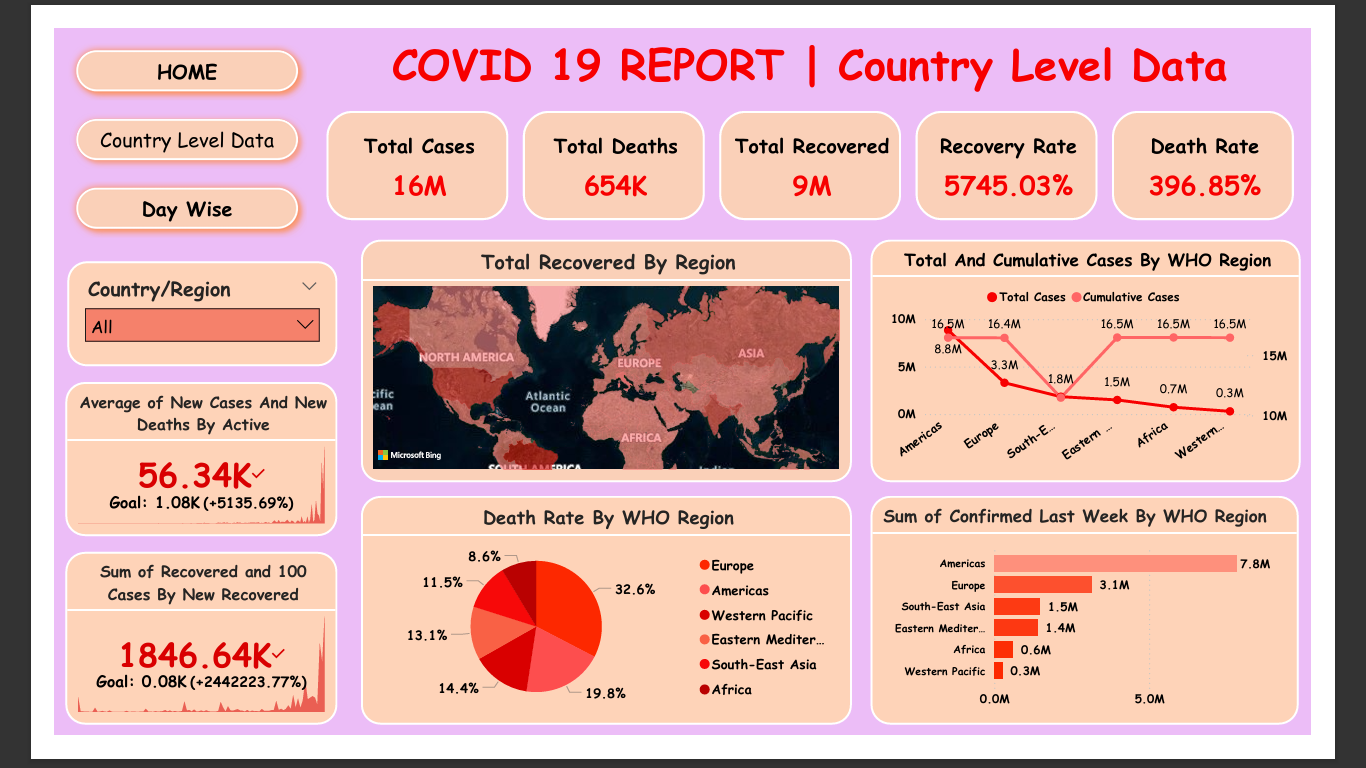

Layout of this report page (visuals, bound fields, positions):
{"tool":"powerbi","page":{"name":"Country Level Data","canvas":[1280,720],"ordinal":1},"visuals":[{"type":"textbox","box":[271.4,0,995.7,70],"z":0},{"type":"pageNavigator","box":[12.8,12.8,243.8,202.7],"z":1000},{"type":"filledMap","title":"Total Recovered By Region","fields":{"Category":["country_wise_latest.Country/Region"]},"box":[311.8,215.4,500.3,246.6],"z":2000},{"type":"cardVisual","fields":{"Data":["country_wise_latest.Total Cases","country_wise_latest.Total Deaths","country_wise_latest.Total Recovered","country_wise_latest.Recovery Rate","country_wise_latest.Death Rate"]},"box":[272.1,79.4,996.4,120.5],"z":3000},{"type":"areaChart","title":"Total And Cumulative Cases By WHO Region","fields":{"Category":["country_wise_latest.WHO Region"],"Y":["country_wise_latest.Total Cases"],"Y2":["country_wise_latest.Cumulative Cases"]},"box":[830.6,215.4,438,246.6],"z":4000},{"type":"slicer","fields":{"Values":["country_wise_latest.Country/Region"]},"box":[12.8,236.7,275,107.7],"z":5000},{"type":"pieChart","title":"Death Rate By WHO Region","fields":{"Category":["country_wise_latest.WHO Region"],"Y":["country_wise_latest.Death Rate"]},"box":[311.8,476.2,500.3,232.4],"z":6000},{"type":"barChart","title":"Sum of Confirmed Last Week By WHO Region","fields":{"Y":["Sum(country_wise_latest.Confirmed last week)"],"Category":["country_wise_latest.WHO Region"]},"box":[830.6,476.2,436.5,232.4],"z":7000},{"type":"kpi","title":"Average of New Cases And New Deaths By Active","fields":{"Indicator":["Avg(country_wise_latest.New cases)"],"TrendLine":["country_wise_latest.Active"],"Goal":["Avg(country_wise_latest.New deaths)"]},"box":[11.3,360,276.4,157.3],"z":8000},{"type":"kpi","title":"Sum of Recovered and 100 Cases By New Recovered","fields":{"Goal":["Sum(country_wise_latest.Recovered / 100 Cases)"],"TrendLine":["country_wise_latest.New recovered"],"Indicator":["Sum(country_wise_latest.Recovered)"]},"box":[11.3,532.9,276.4,175.7],"z":9000}]}

Visuals, with their boxes in screenshot pixels (x1, y1, x2, y2), scaled from the page's 1280x720 canvas onto the 1366x768 screenshot:
textbox: box=[290, 0, 1352, 75]
pageNavigator: box=[14, 14, 274, 230]
"Total Recovered By Region" filledMap: box=[333, 230, 867, 493]
cardVisual - country_wise_latest.Total Cases x country_wise_latest.Total Deaths: box=[290, 85, 1354, 213]
"Total And Cumulative Cases By WHO Region" areaChart: box=[886, 230, 1354, 493]
slicer - country_wise_latest.Country/Region: box=[14, 252, 307, 367]
"Death Rate By WHO Region" pieChart: box=[333, 508, 867, 756]
"Sum of Confirmed Last Week By WHO Region" barChart: box=[886, 508, 1352, 756]
"Average of New Cases And New Deaths By Active" kpi: box=[12, 384, 307, 552]
"Sum of Recovered and 100 Cases By New Recovered" kpi: box=[12, 568, 307, 756]
